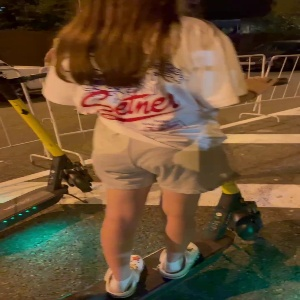human on a scooter: (1, 1, 291, 300)
